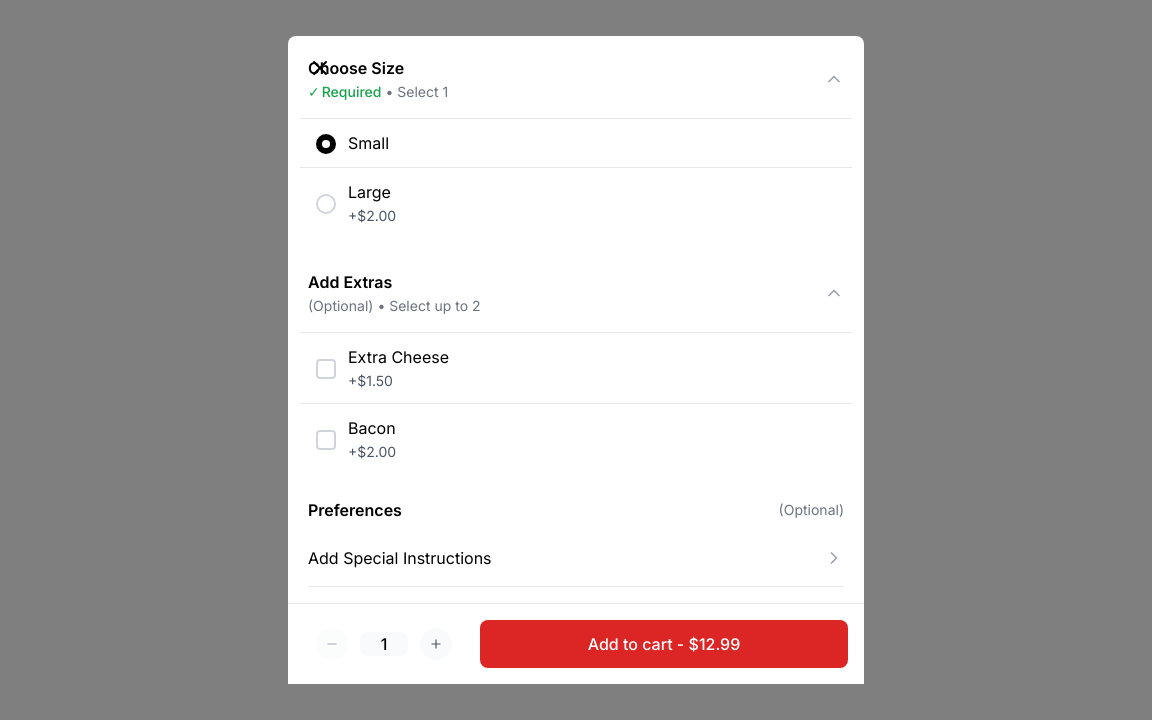
Test: MenuItemDialog › Multi-select modifications › should allow deselecting optional options
This screenshot has width=1152, height=720.
(page scrolled)
Click the text "Extra Cheese" at point(398, 357), box [348,347,449,367]
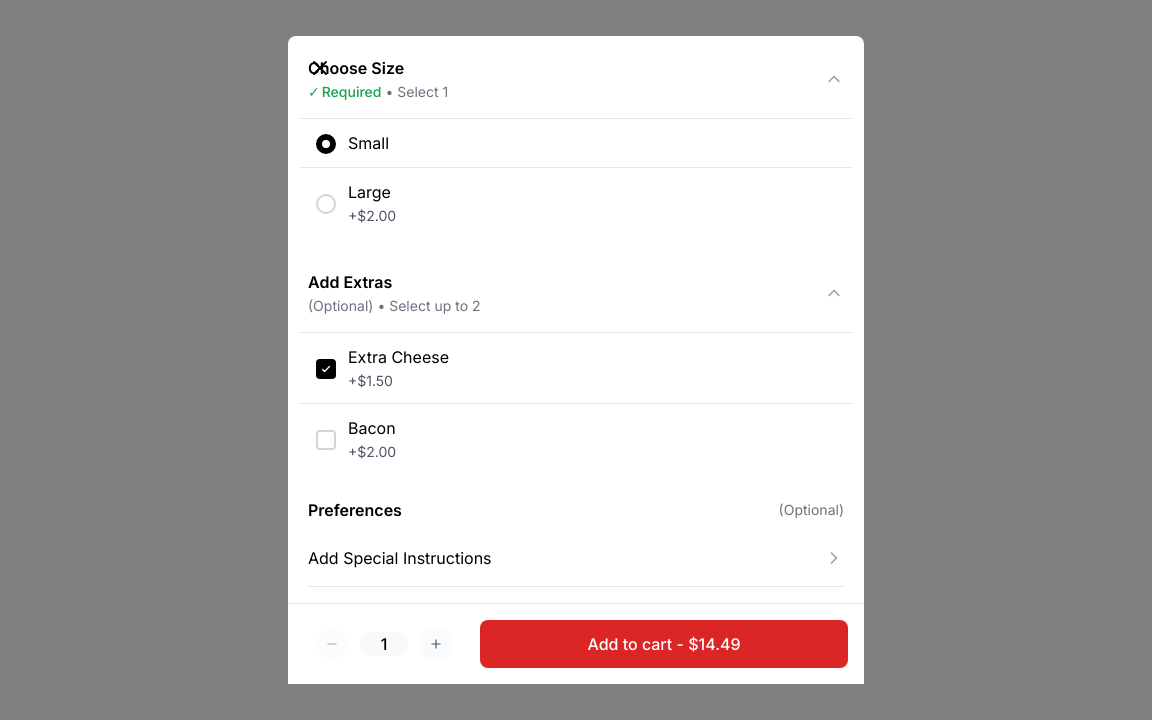
Click the text "Extra Cheese" at point(398, 357), box [348,347,449,367]
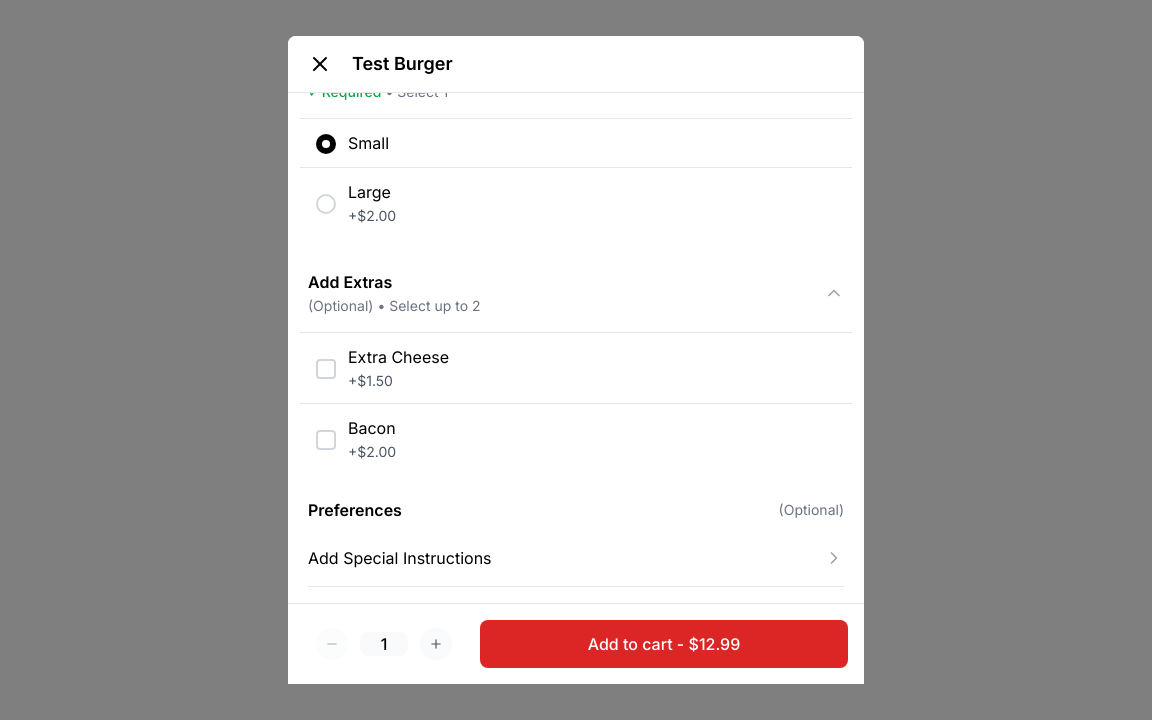
Expected: the button "Add to cart - $12.99" is shown, [480,620,848,668]
